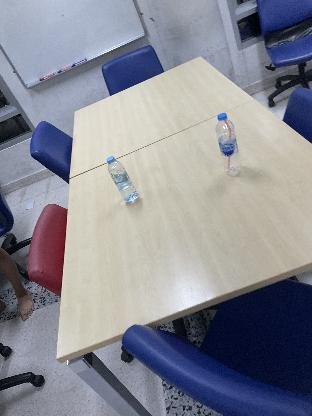Plastic Bottle: (215, 113, 243, 177), (106, 156, 140, 204)
